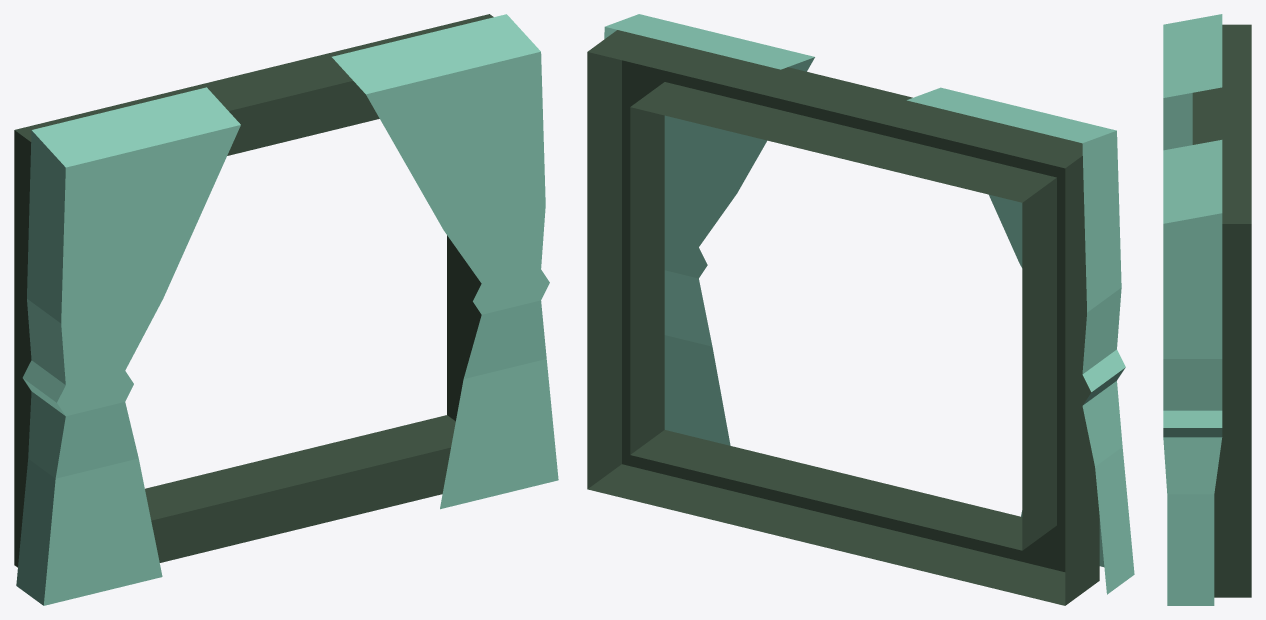
Rendered from Finestra_1.fbx.
3 renders of one model, left to right at view 1: azimuth 30°, elevation 25°; view 2: azimuth 150°, elevation 25°; view 3: azimuth 270°, elevation 25°, orthographic. The views are drawn at different scales.
Visible parts, largest first — view 1: Cube.027; view 2: Cube.027; view 3: Cube.027.
Part boxes in pixels (box(x1,y1,x2,y2)): Cube.027: box(14, 14, 558, 605); Cube.027: box(587, 14, 1134, 605); Cube.027: box(1163, 14, 1251, 605).
Bounding box in the file's own units: 173 × 144 × 30.
